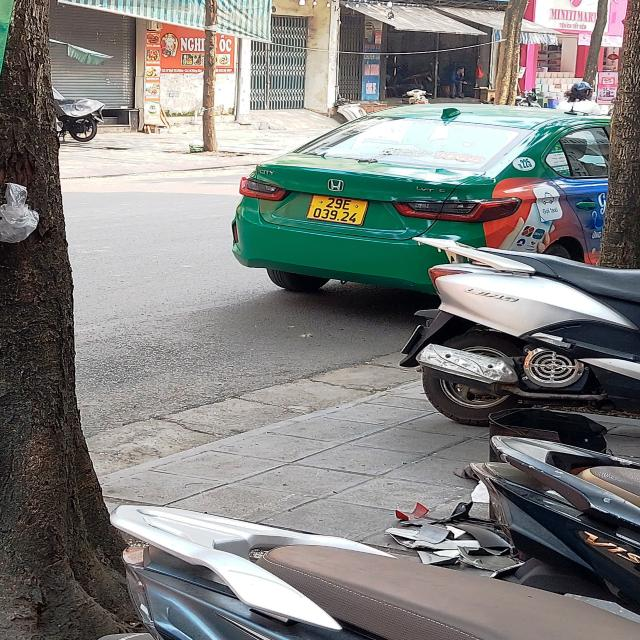license_plate: (305, 194, 372, 227)
